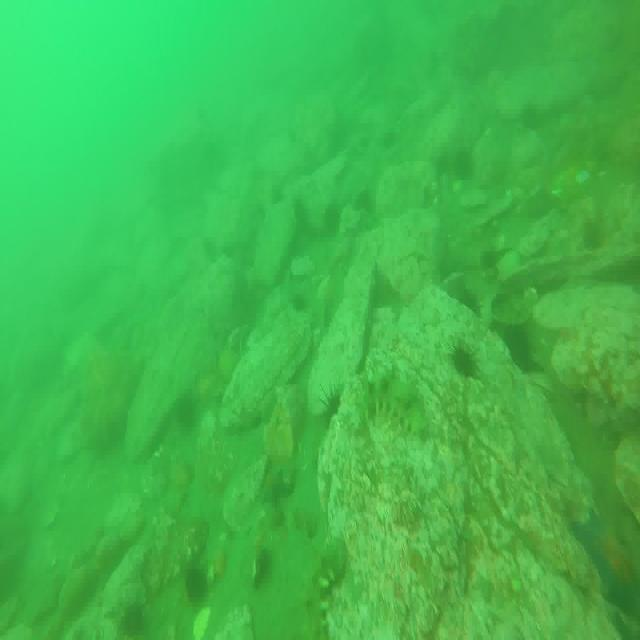echinus: (506, 322, 531, 377), (320, 390, 346, 430), (121, 602, 148, 640), (452, 346, 477, 385), (184, 565, 209, 602), (586, 216, 608, 252), (177, 394, 199, 429), (455, 155, 477, 181), (293, 288, 309, 322), (325, 204, 343, 234), (356, 187, 373, 216)
holothurian: (298, 544, 342, 640), (357, 378, 425, 436)
starfish: (574, 506, 640, 619)
